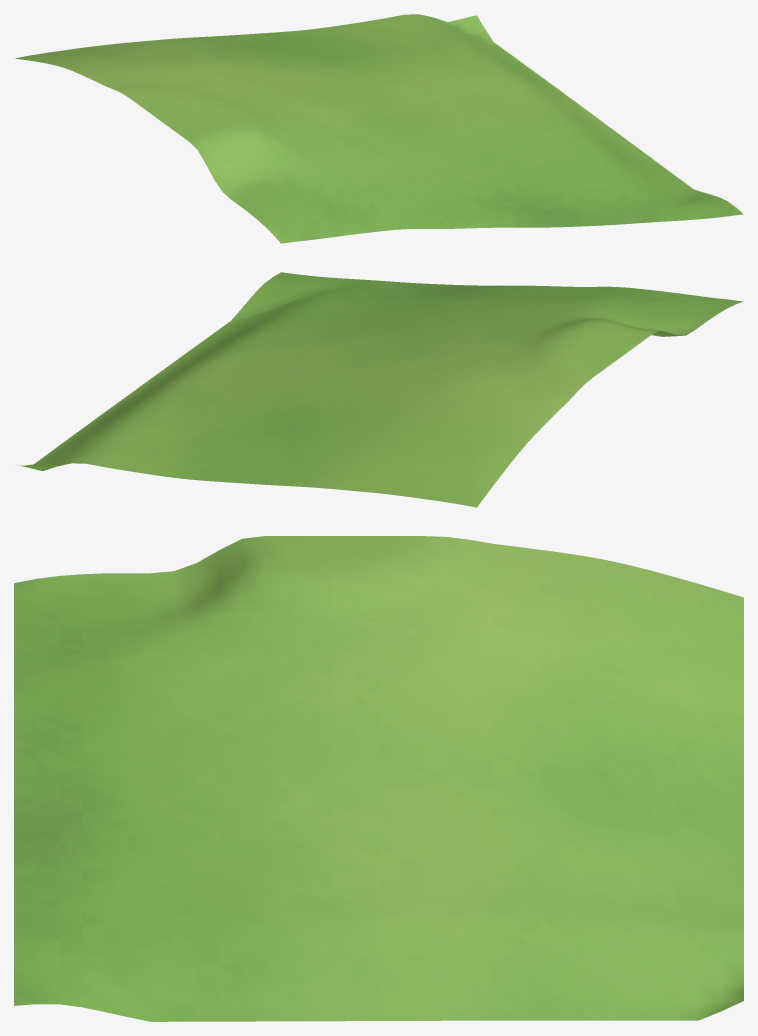
File: terrain_r4_c1.glb
3 views of the same model, one above another, from view 1: azimuth 30°, elevation 25°; view 2: azimuth 150°, elevation 25°; view 3: azimuth 270°, elevation 25° (orthographic). The views are drawn at different scales.
Visible parts, largest first — view 1: terrain_r4_c1; view 2: terrain_r4_c1; view 3: terrain_r4_c1.
Part boxes in pixels (x1,y1,x2,y2): terrain_r4_c1: [15, 14, 743, 243]; terrain_r4_c1: [16, 272, 743, 507]; terrain_r4_c1: [14, 536, 743, 1021].
Bounding box in the file's own units: 128 × 34.29 × 128.
1 material, 1 textured.
